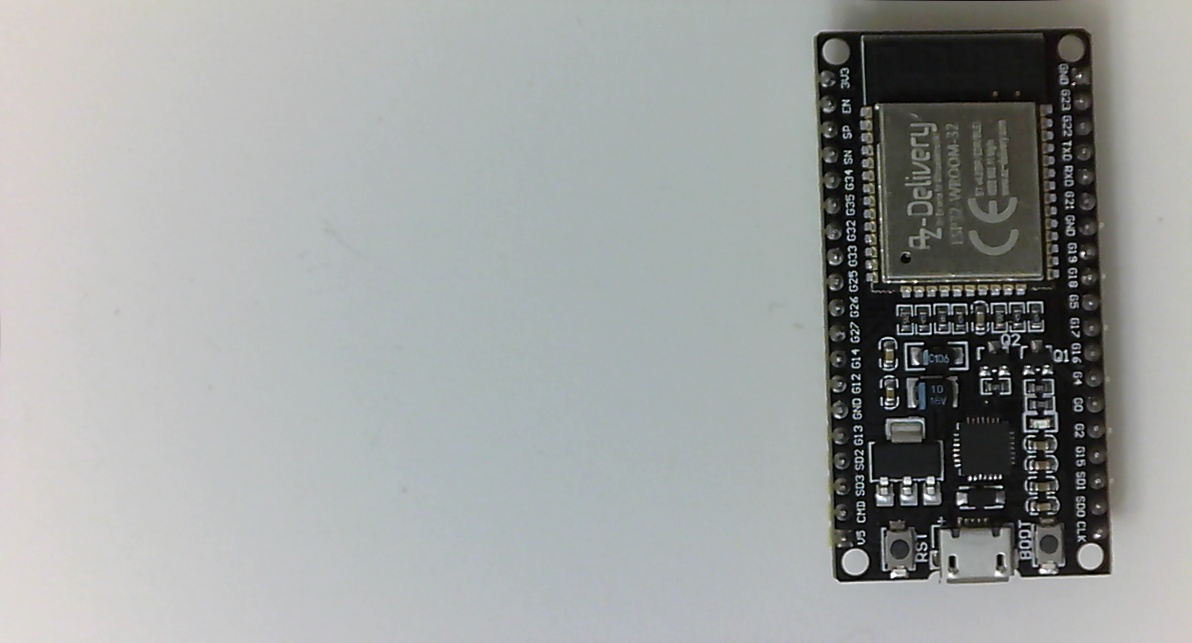esp32: (807, 22, 1121, 583)
